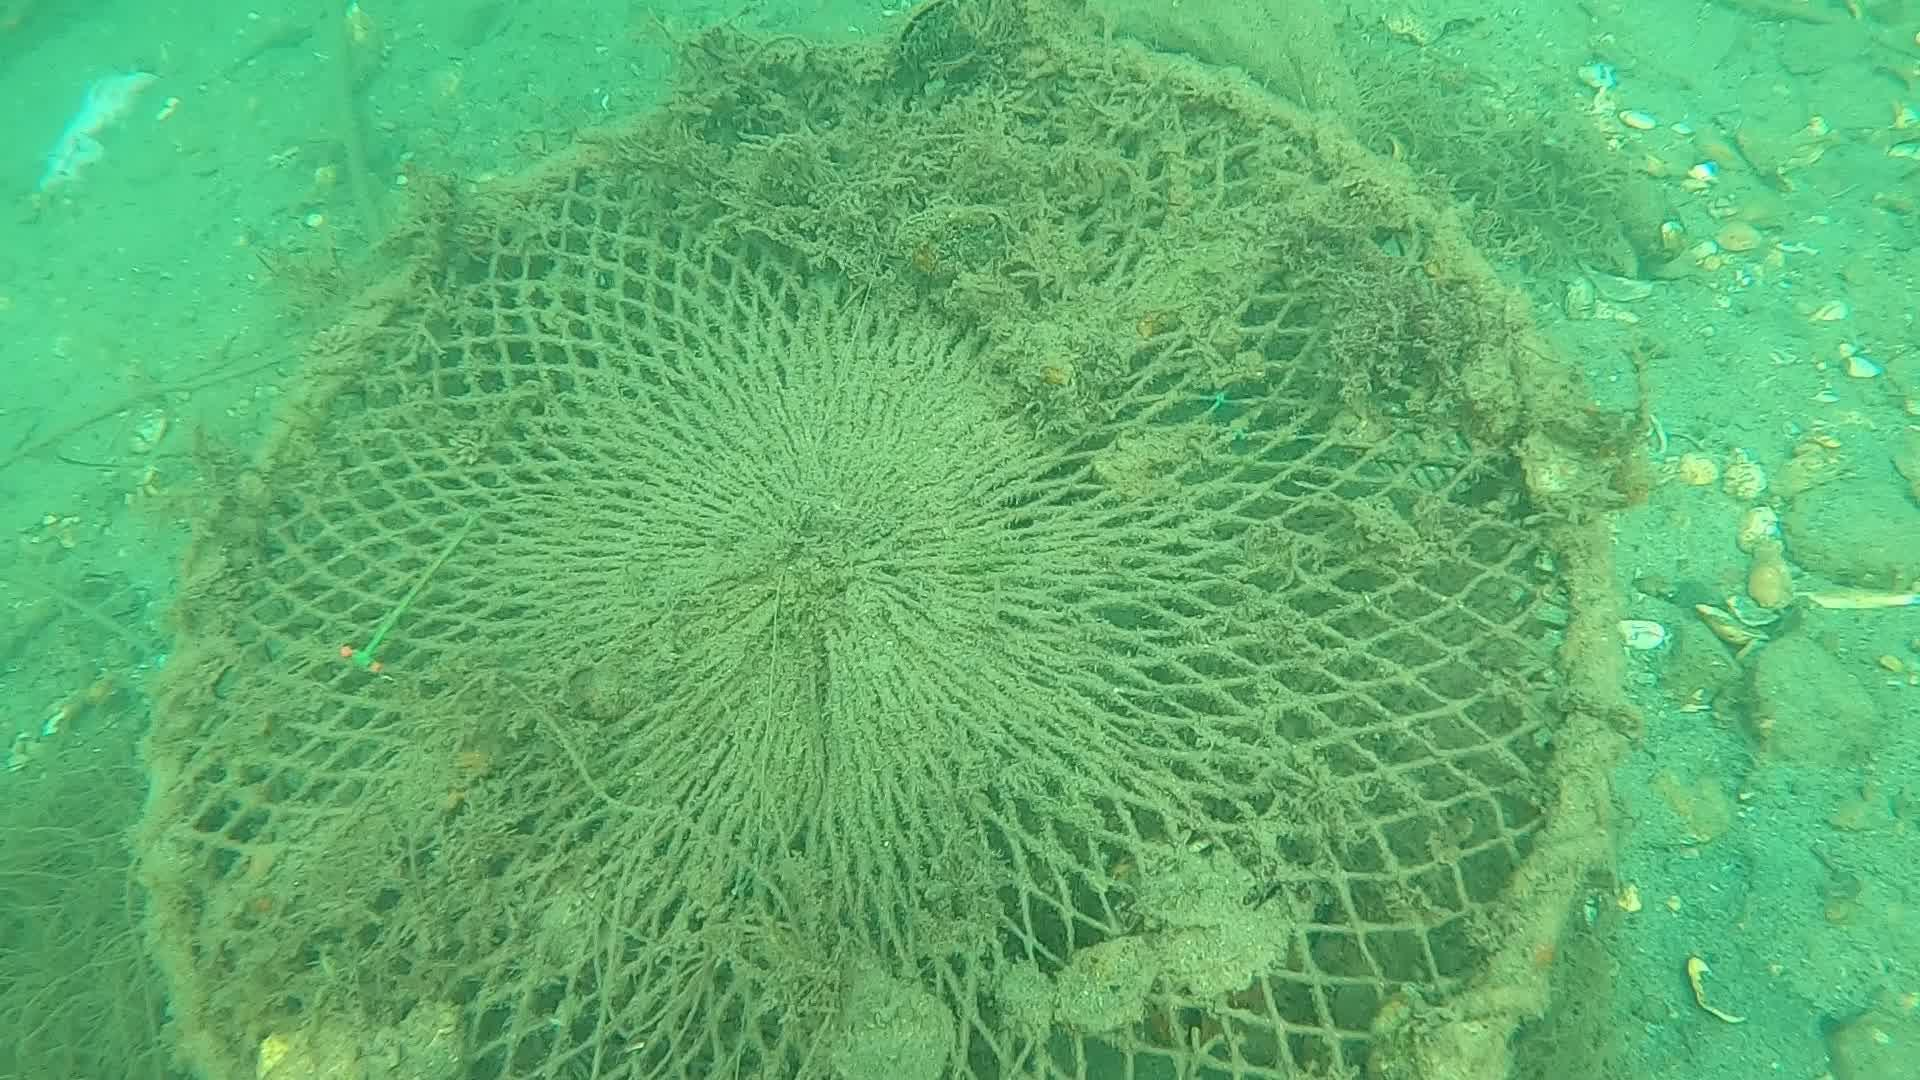circular fish trap: (136, 32, 1623, 1080)
